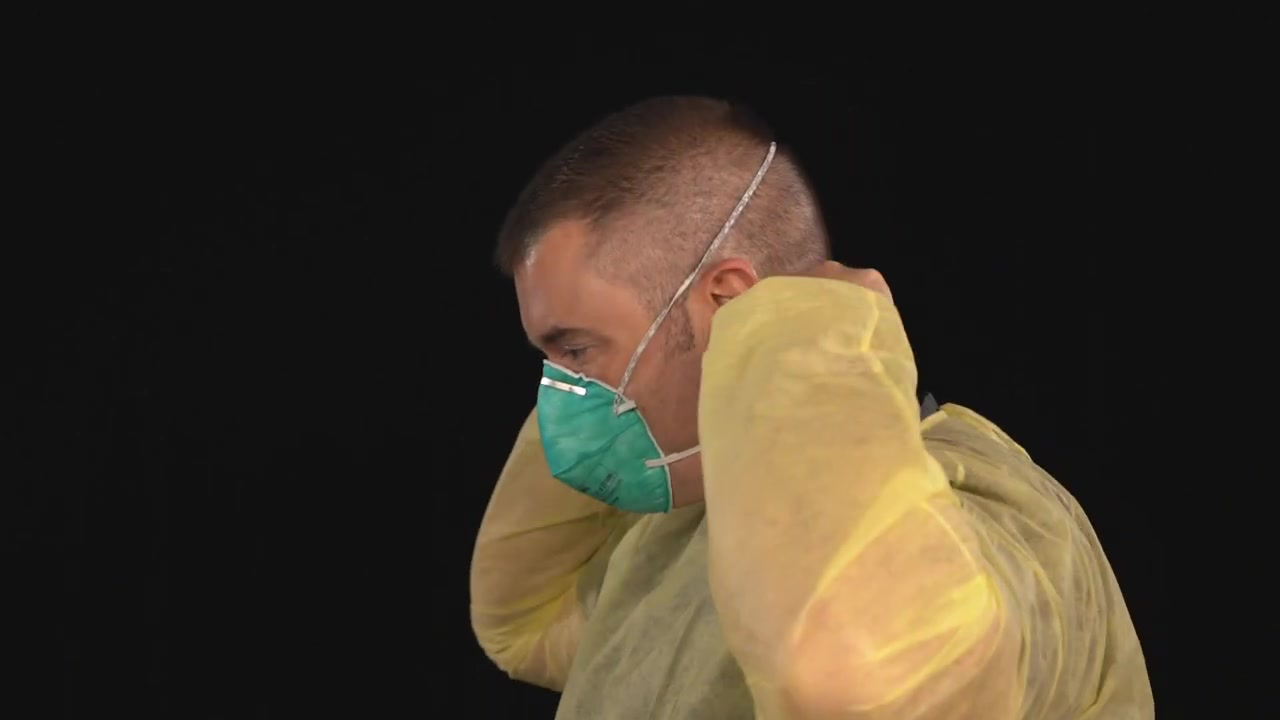Coverall: (479, 378, 1132, 720)
with_mask: (524, 336, 680, 522)
